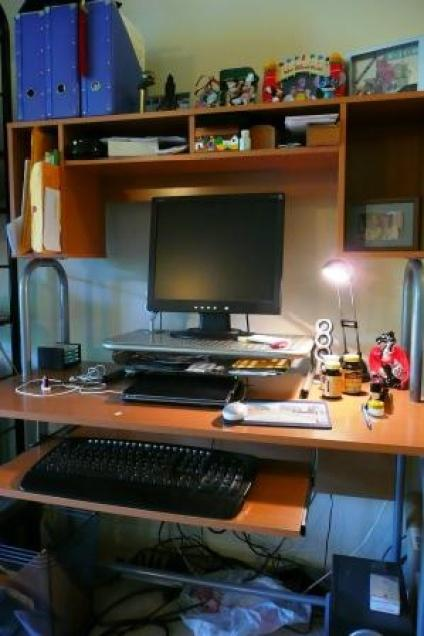AIO PC-Monitor-TV: (144, 190, 286, 339)
